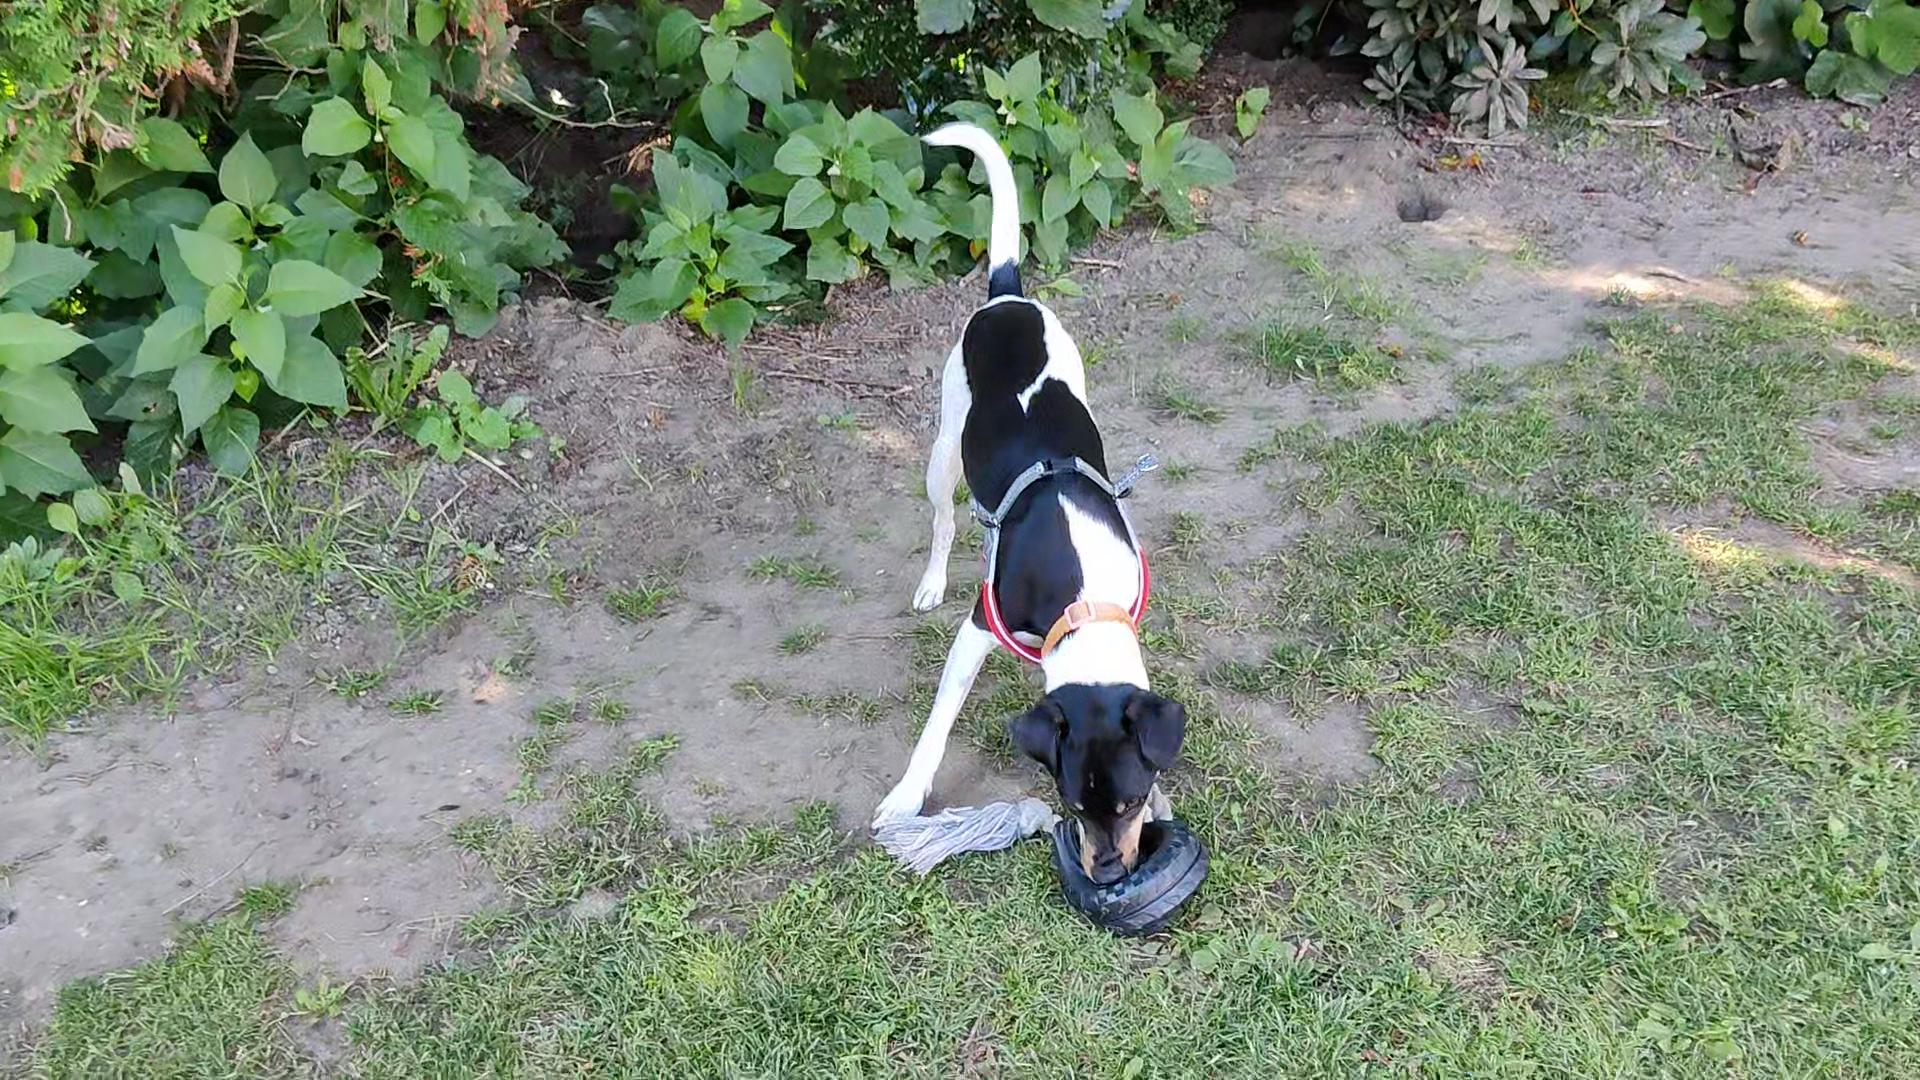Dog: (855, 109, 1208, 905)
